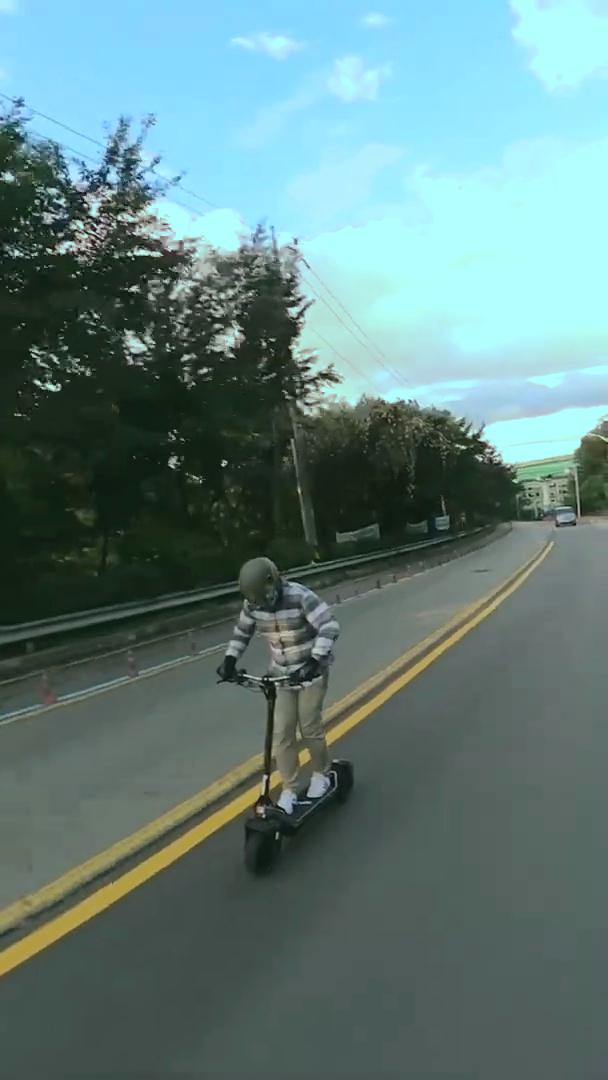helmet: (213, 551, 357, 882)
